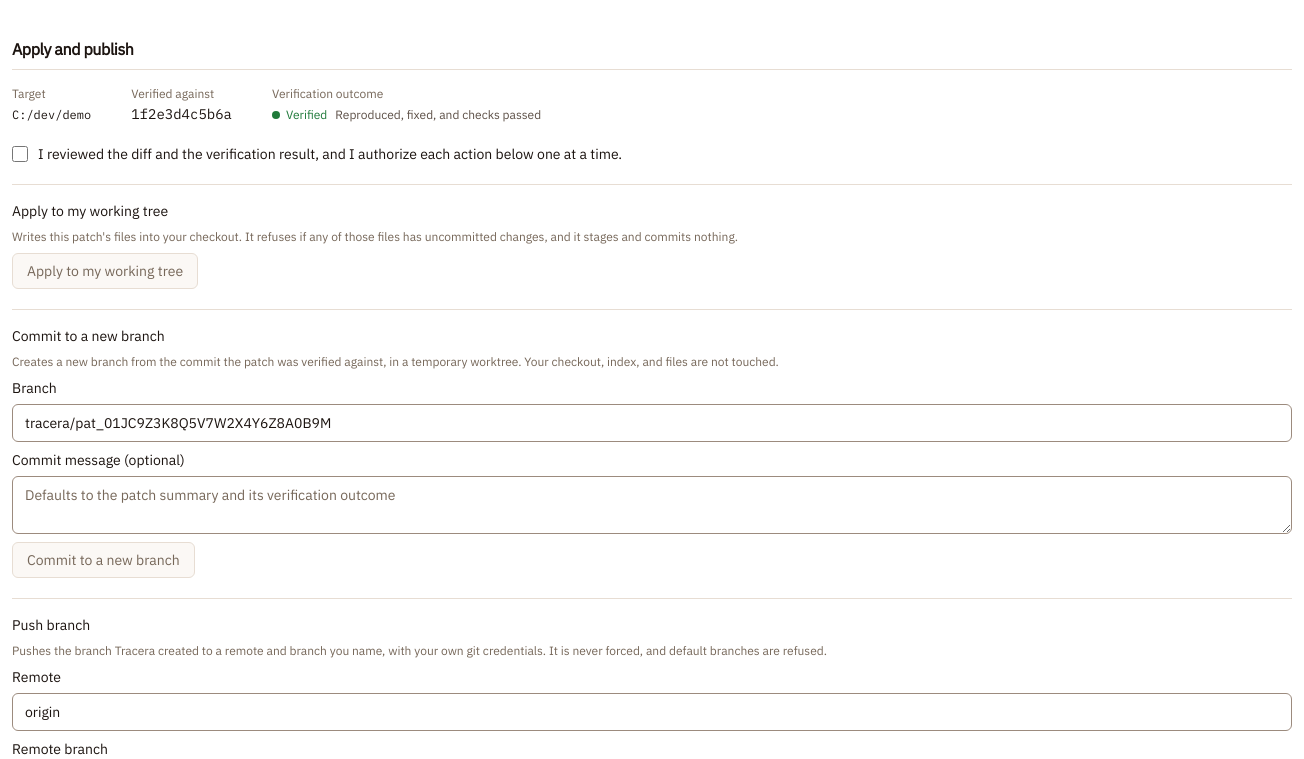
Test case: the apply and publish panel › offers a push once a commit exists, defaulting to its branch
The width and height of the screenshot is (1304, 759).
Click the checkbox at [20, 154], box [12,146,28,162]
(page scrolled)
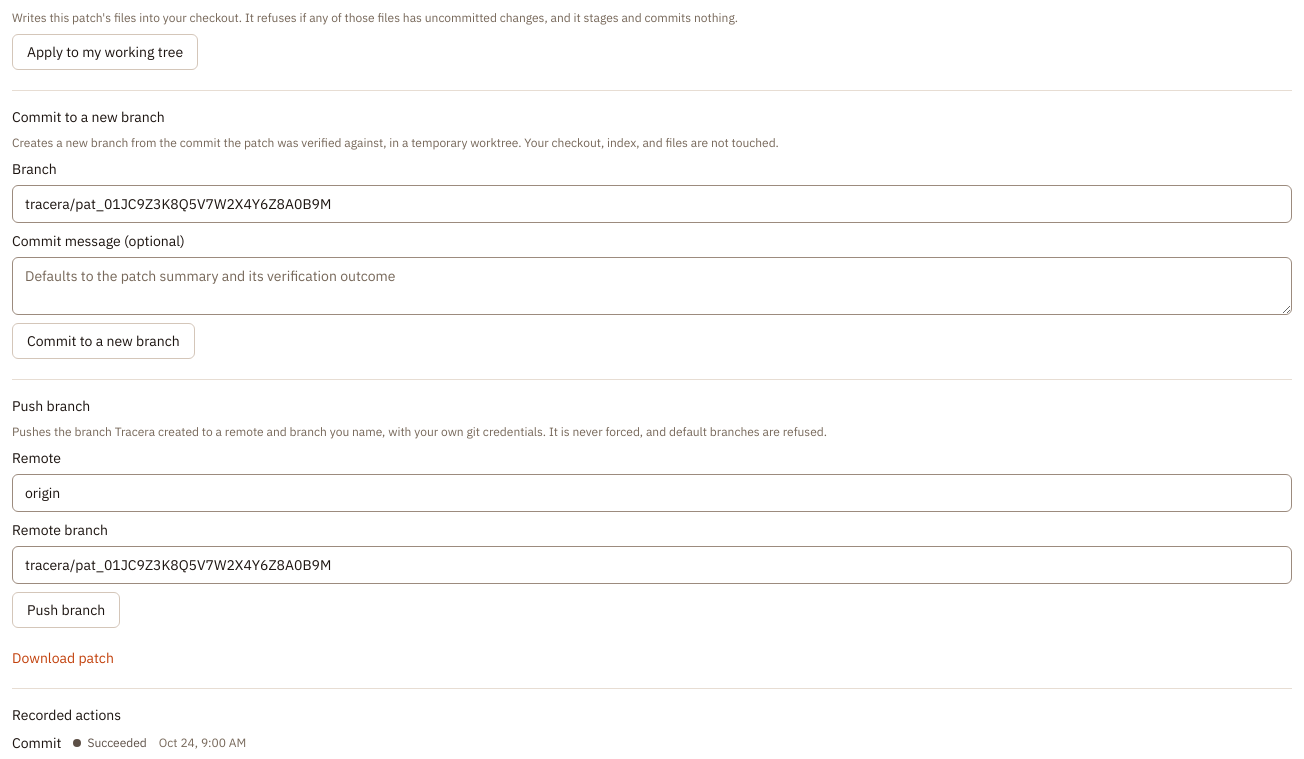
Expected: the button "Push branch" is enabled, [12,592,120,628]
Replace the text in the field labelled "Remote branch" with "fix/total" at [652, 565], box [12,546,1292,584]
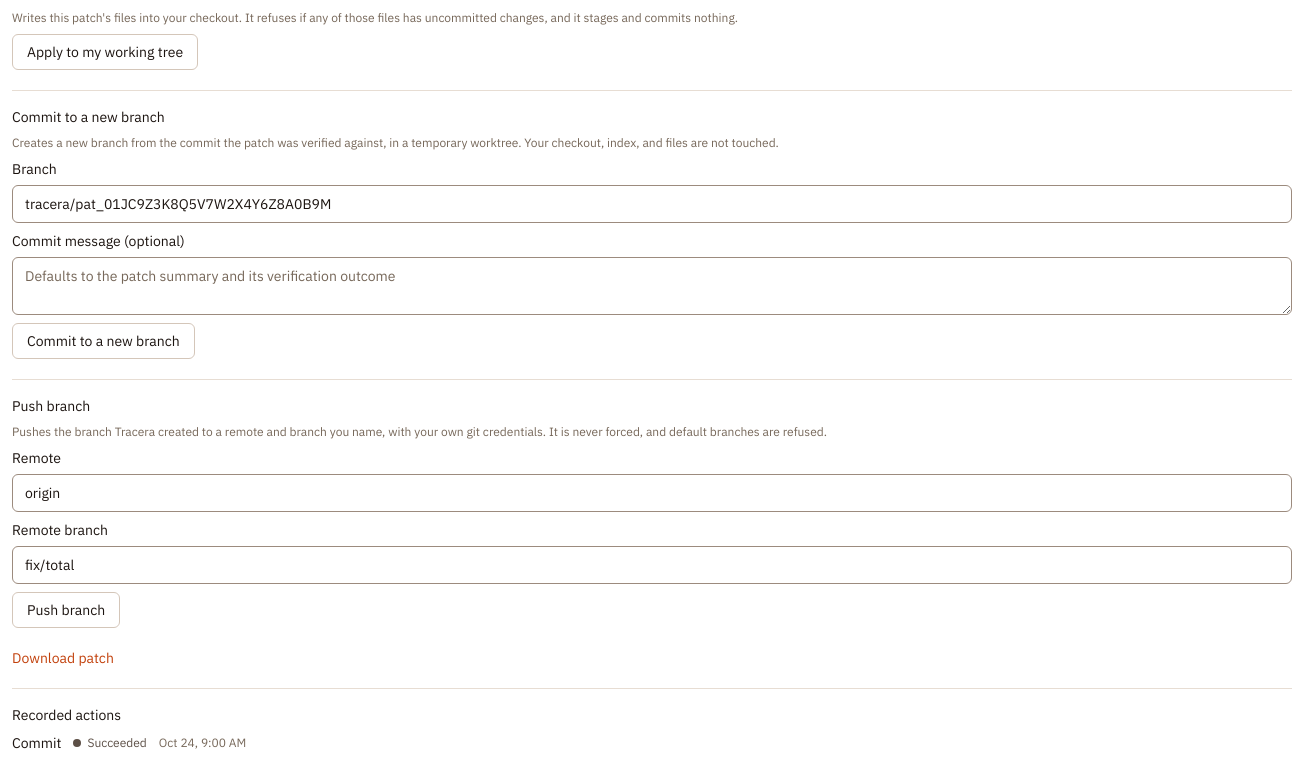
Click the button "Push branch" at [66, 610], box [12,592,120,628]
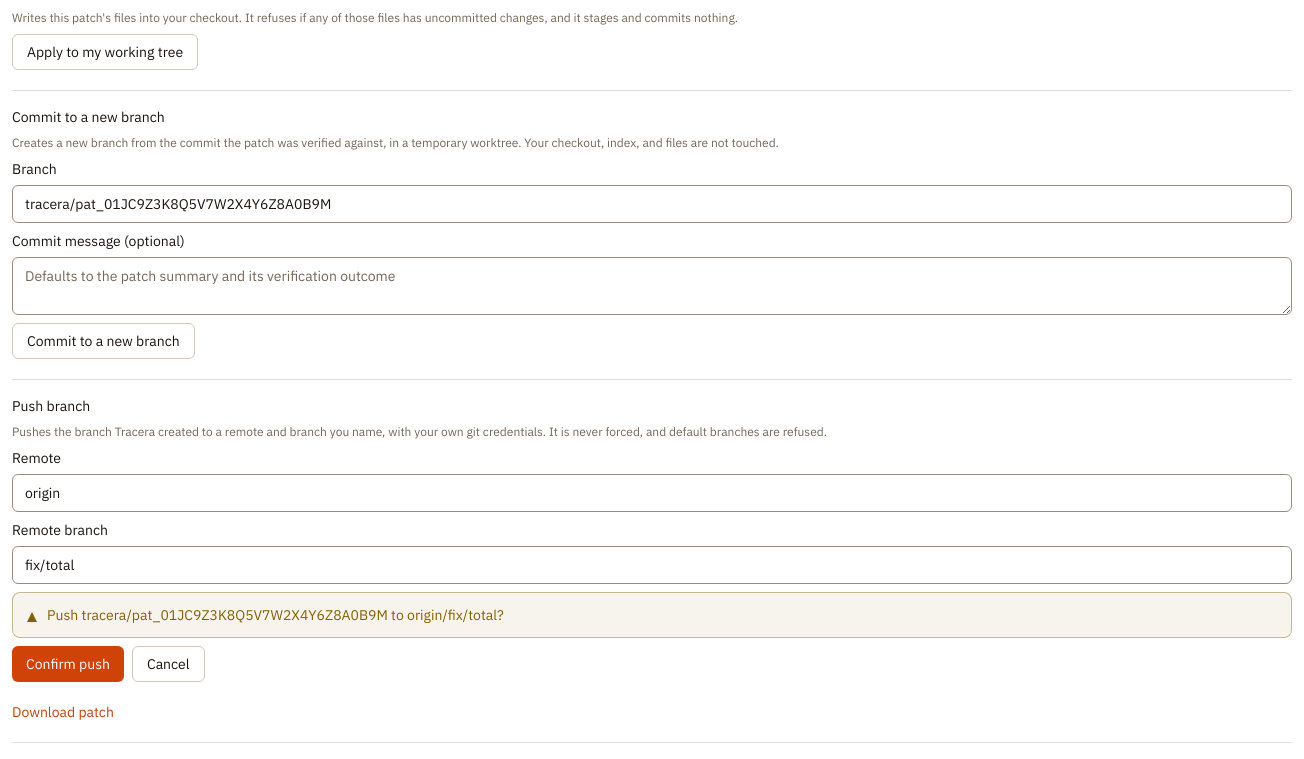
Click the button "Confirm push" at [68, 664], box [12,646,124,682]
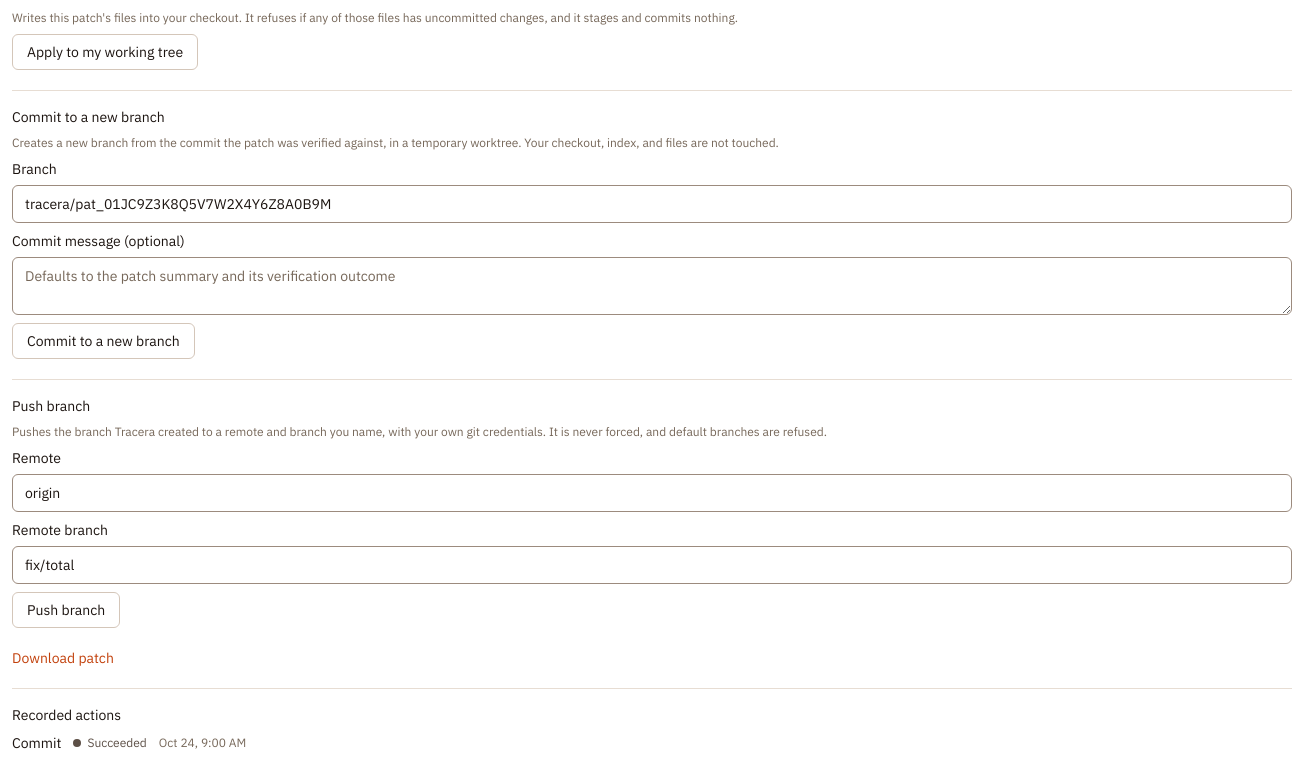
Expected: the button "Push branch" is shown, [12,592,120,628]
